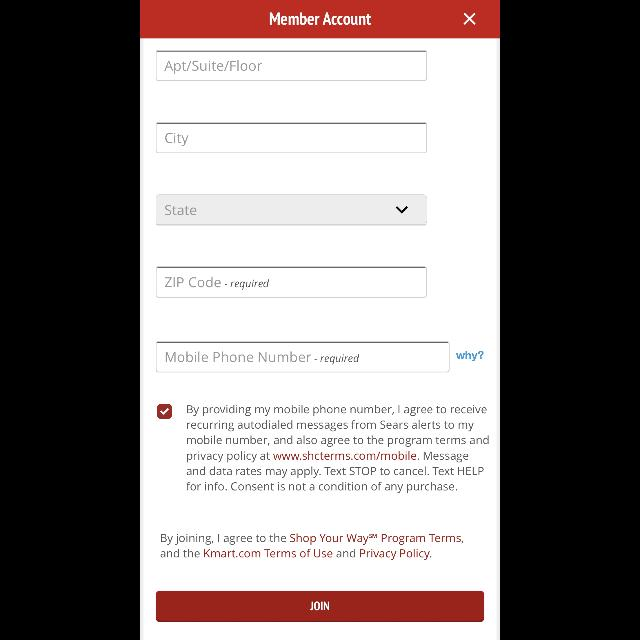checkbox: (158, 404, 172, 418)
icon: (464, 13, 476, 25), (396, 206, 408, 214)
input: (156, 342, 450, 372), (156, 266, 427, 298), (156, 122, 427, 154), (156, 50, 427, 82)
text: (187, 405, 489, 493), (160, 534, 464, 560), (165, 352, 358, 364), (165, 276, 269, 290), (270, 12, 370, 26), (164, 60, 262, 74), (166, 133, 188, 147), (456, 351, 484, 362)
textbutton: (156, 592, 484, 622), (156, 194, 427, 226)
